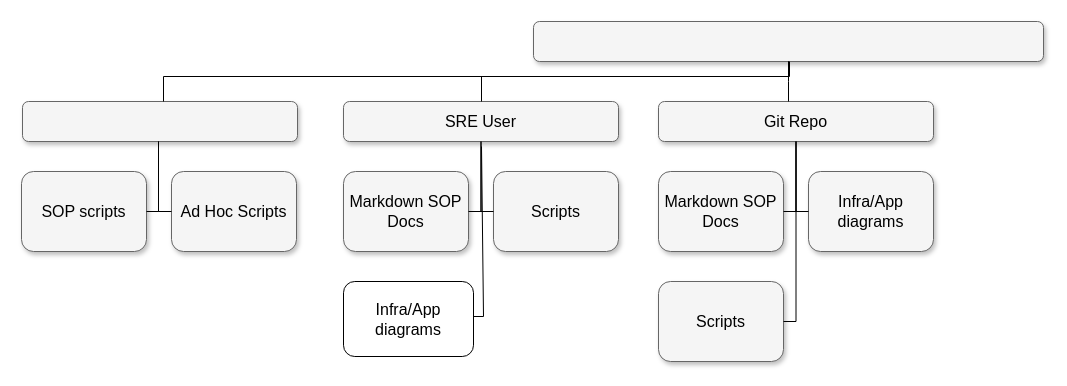
Some shapes in this 1067 by 386 pixel diagram are drawn without their labels. The shapes that lost their labels are listed below. From the top down, each one's centre as x and y in pixels, then its label:
At point 789,42: "RSI".
At point 161,122: "IC".
